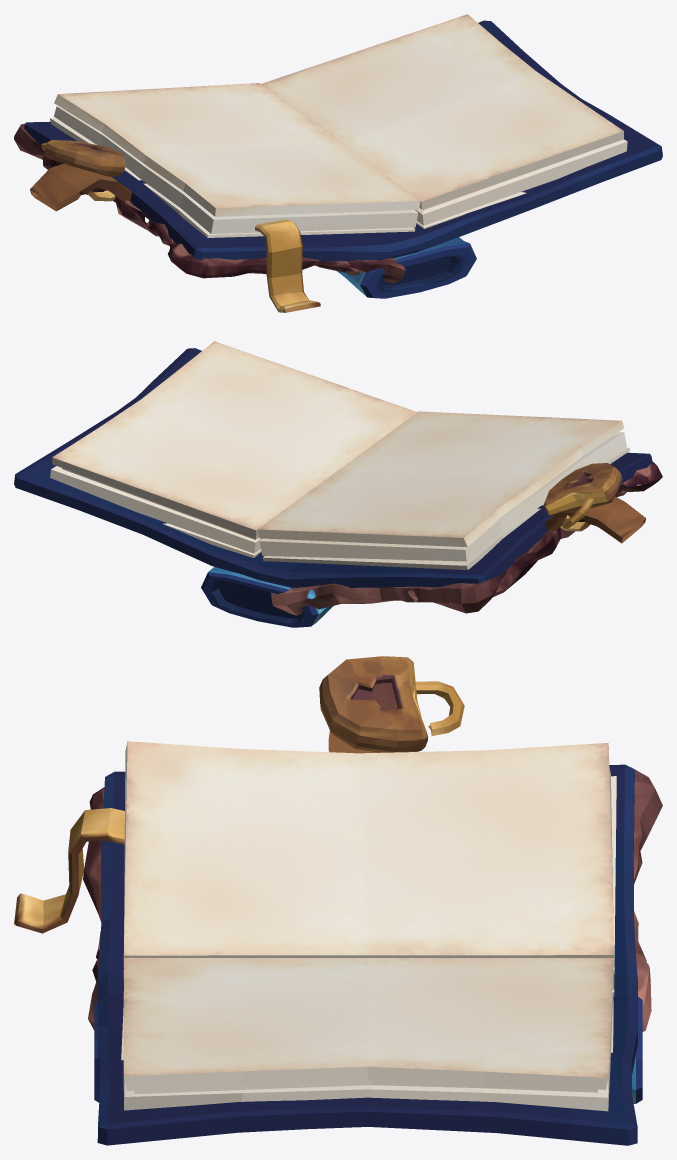
The model's file is Book_Opened.fbx.
3 renders of one model, top to bottom at view 1: azimuth 30°, elevation 25°; view 2: azimuth 150°, elevation 25°; view 3: azimuth 270°, elevation 25°, orthographic. The views are drawn at different scales.
Visible parts, largest first — view 1: SM_Book_Opened; view 2: SM_Book_Opened; view 3: SM_Book_Opened.
Part boxes in pixels (x1,y1,x2,y2): SM_Book_Opened: [14, 14, 662, 312]; SM_Book_Opened: [14, 341, 662, 627]; SM_Book_Opened: [14, 656, 662, 1145].
Bounding box in the file's own units: 90.33 × 24.67 × 62.32.
